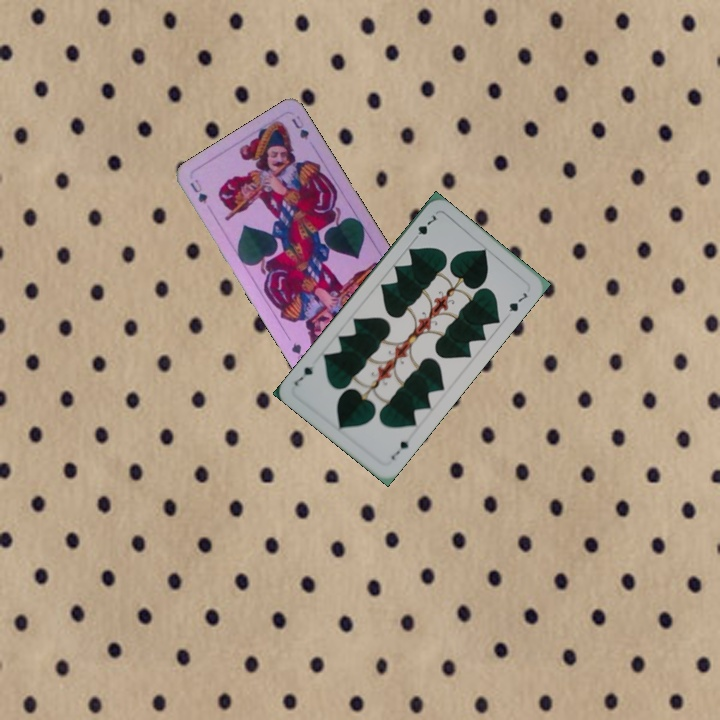G7: (408, 211, 439, 244), (387, 436, 411, 463)
GU: (186, 175, 210, 206)
